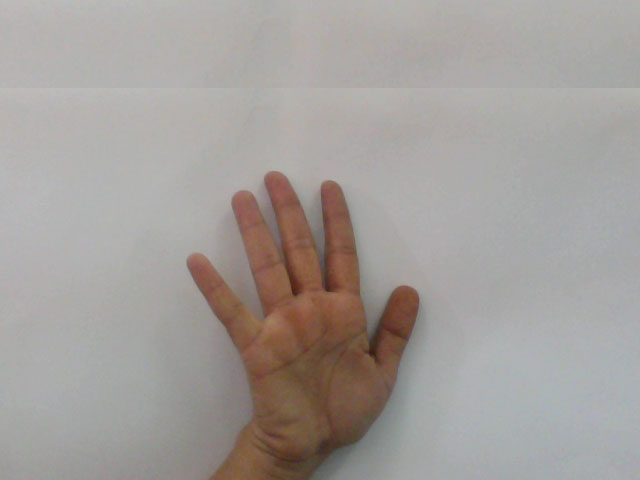hand: (177, 161, 427, 451)
